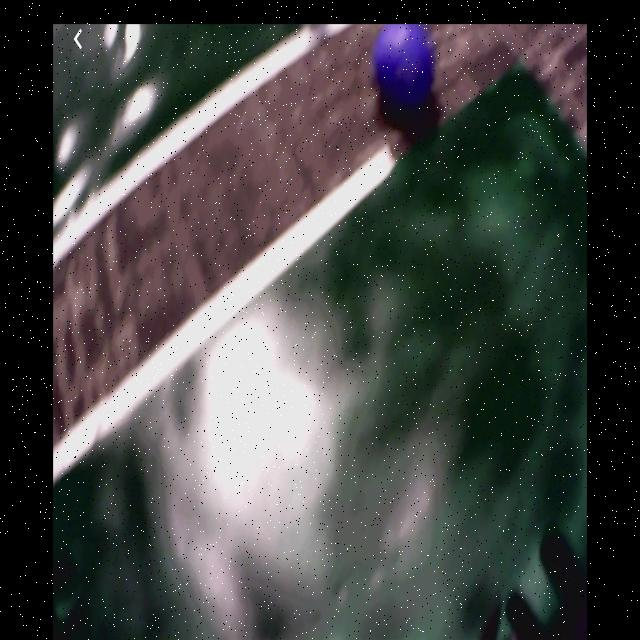ball: (374, 26, 432, 109)
